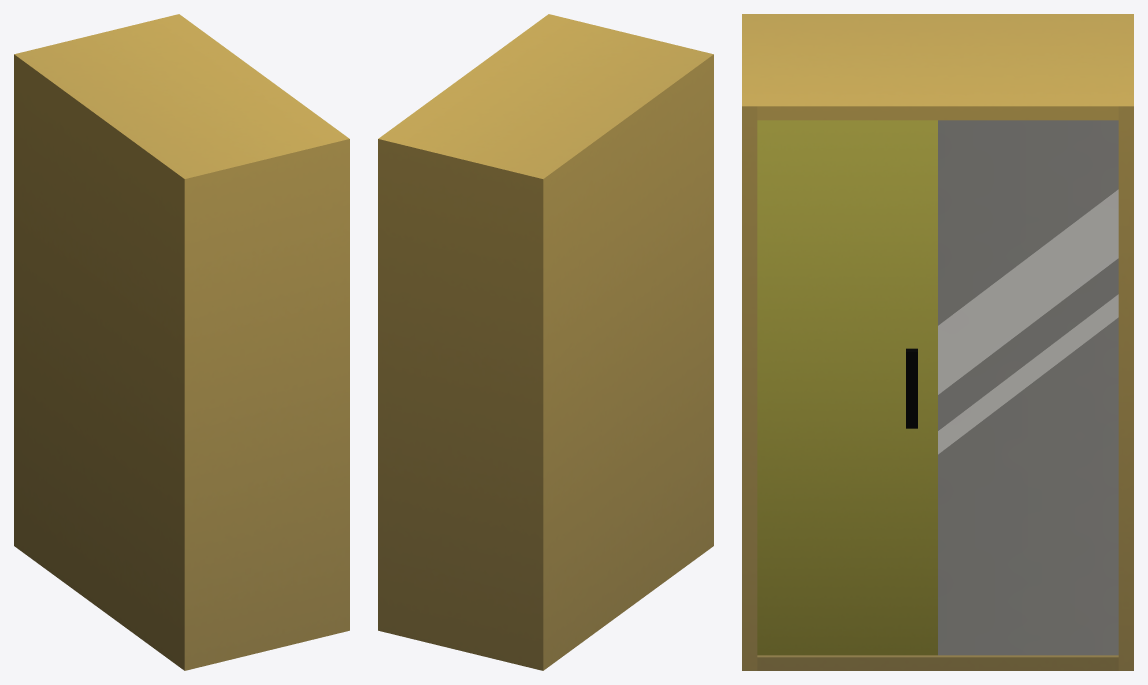
File: PROP_wardrobe.fbx
3 views of the same model, side by side, from view 1: azimuth 30°, elevation 25°; view 2: azimuth 150°, elevation 25°; view 3: azimuth 270°, elevation 25° (orthographic). The views are drawn at different scales.
Visible parts, largest first — view 1: PROP_wardrobe; view 2: PROP_wardrobe; view 3: PROP_wardrobe.
Part boxes in pixels (box(x1,y1,x2,y2)): PROP_wardrobe: box(14, 14, 349, 670); PROP_wardrobe: box(378, 14, 713, 670); PROP_wardrobe: box(742, 14, 1133, 670).
Bounding box in the file's own units: 71.38 × 200 × 126.
